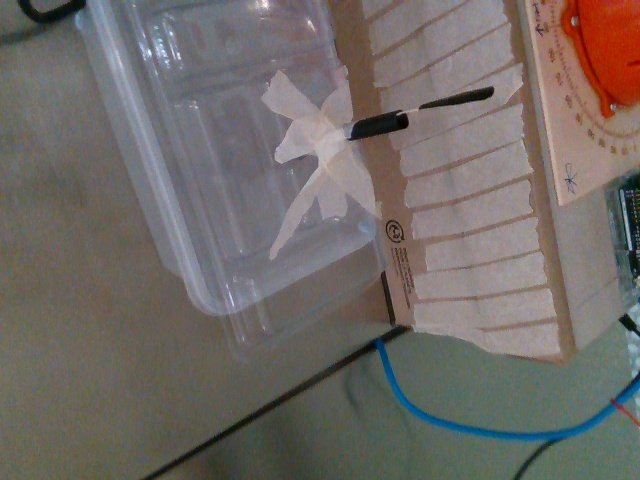test_strip: (396, 86, 492, 116)
